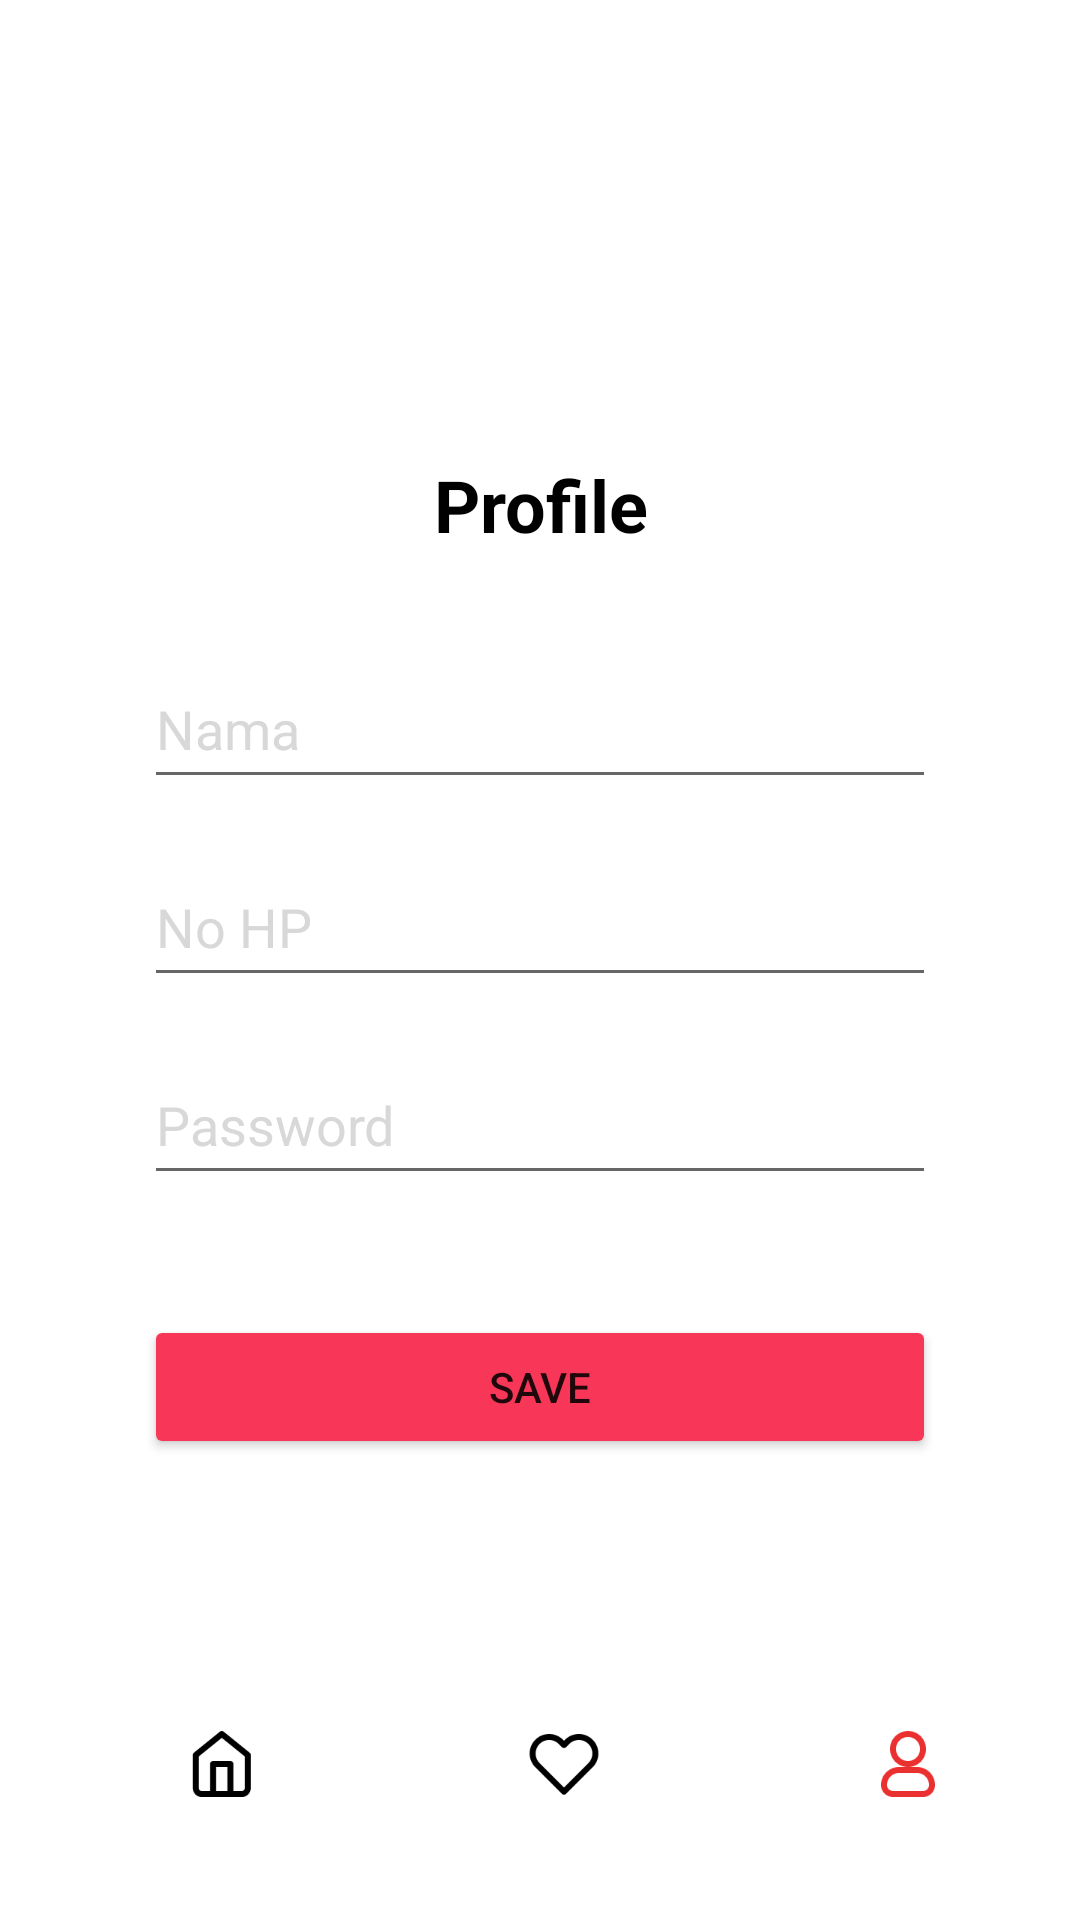

Named icons in this screenshot (1080*1920) and their bounding boxes, (x1, y1, x2, y2):
home notactive: (192, 1731, 251, 1797)
user: (881, 1731, 935, 1797)
